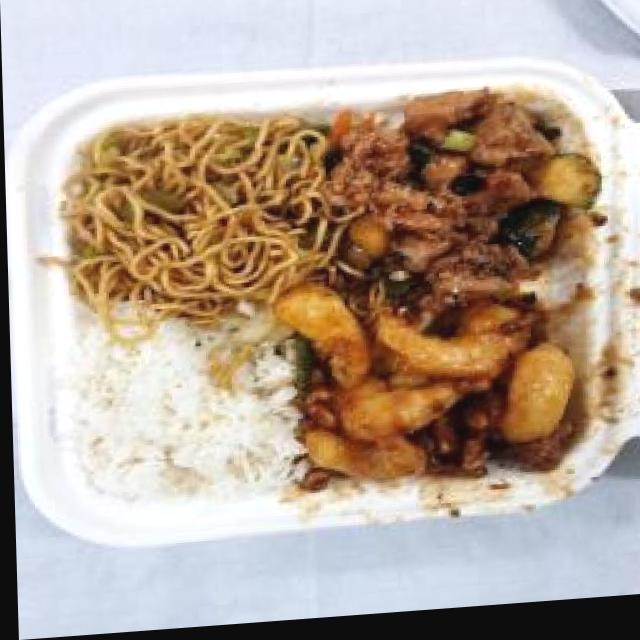Chow Mein: (58, 106, 333, 327)
Honey Walnut Shrimp: (287, 287, 587, 509)
Kung Pao Chicken: (326, 91, 594, 316)
White Steamed Rice: (63, 327, 295, 513)
